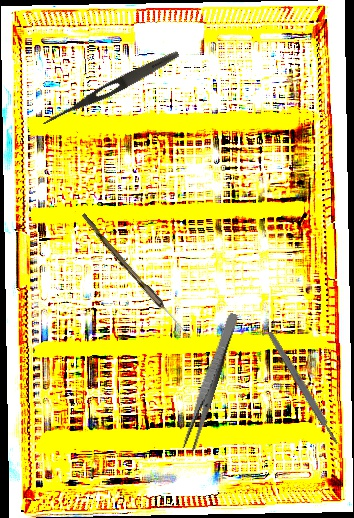Dressing Forceps: (40, 47, 182, 131), (181, 311, 240, 452)
Scalpel Handle: (266, 330, 340, 446)
Surgical Spoon: (78, 213, 195, 341)
